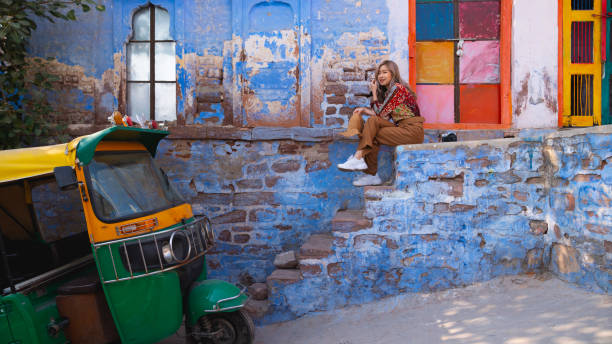threewheel: (1, 122, 255, 344)
